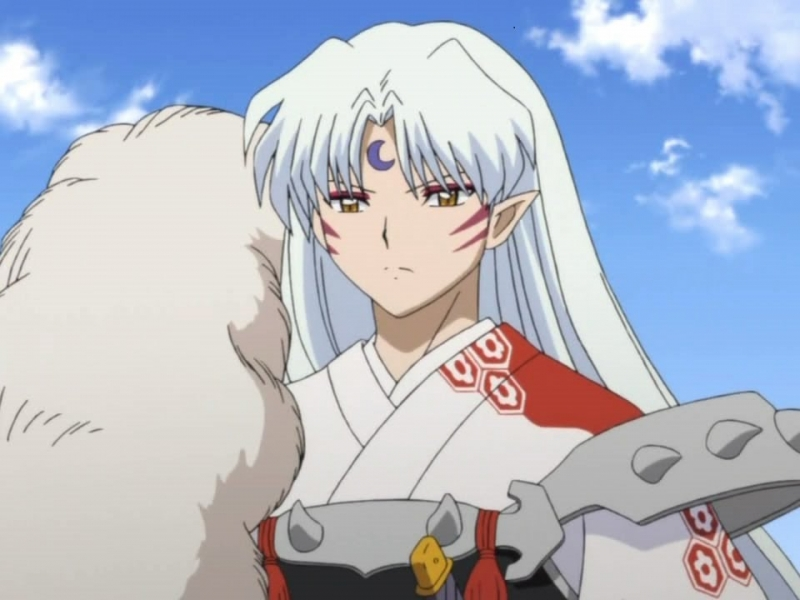sesshomaru: (226, 22, 610, 419)
